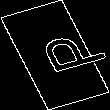P_W: (14, 29, 96, 81)
